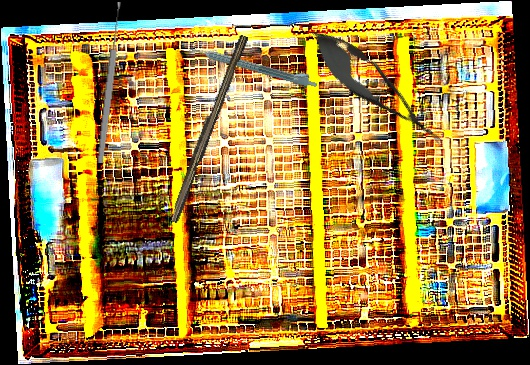Handpiece: (188, 39, 320, 90)
Micro Scissor: (297, 16, 457, 160)
Scalpel Handle: (166, 32, 249, 225)
Surgical Spoon: (95, 1, 125, 164)
